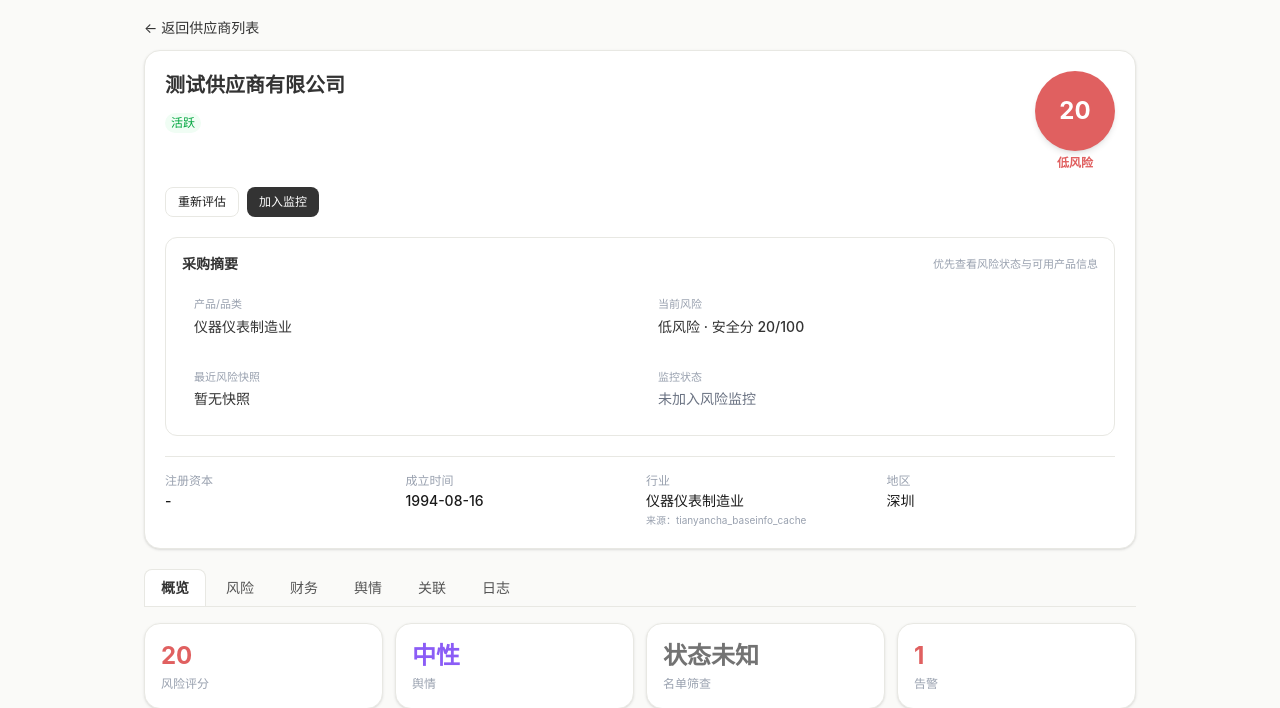
Test: SupplierProfilePage › renders a safe key when a risk snapshot id is missing
Expected: the heading "测试供应商有限公司" is shown, [165,73,345,97]
What coordinates should you click on to do the following:
click the button "风险"
I would click on:
 (240, 588)
Its box is [210,569,270,606].
(page scrolled)
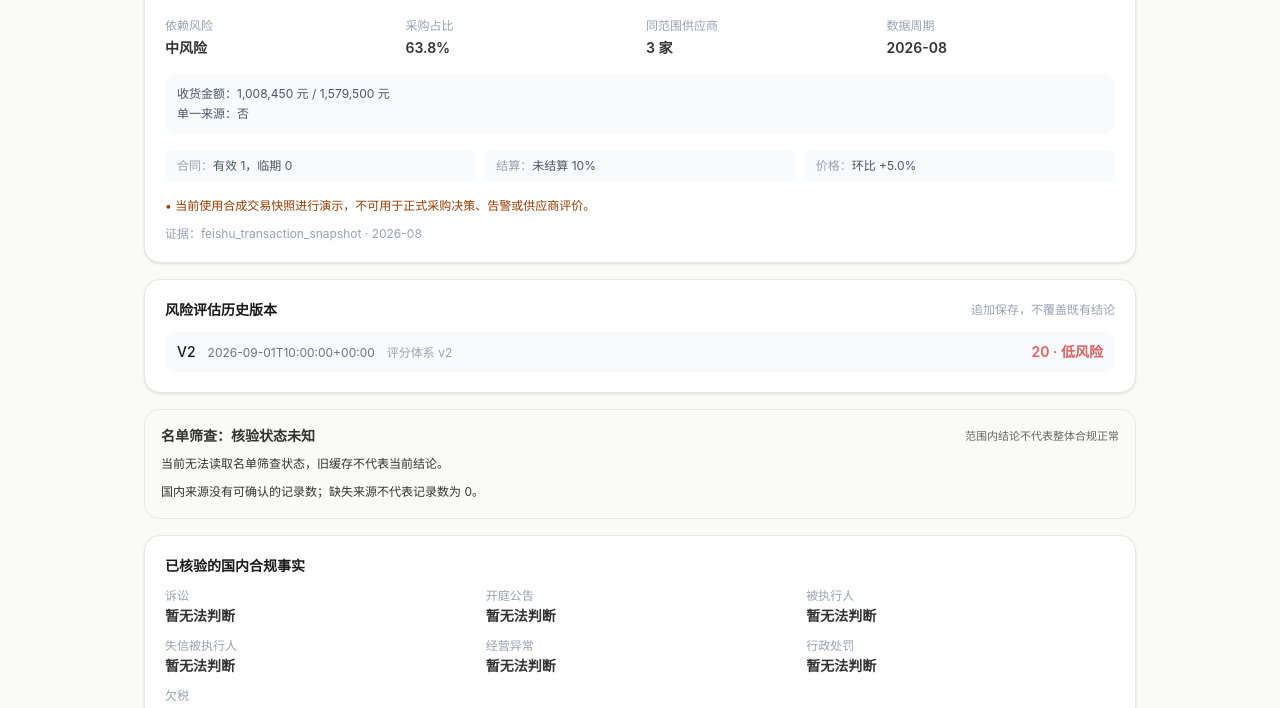
Result: the text "V2" is shown at [177,343,196,360]
